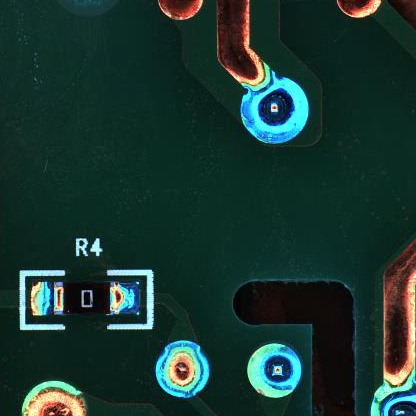spot: (240, 77, 311, 145), (156, 340, 211, 401), (247, 343, 304, 401)
